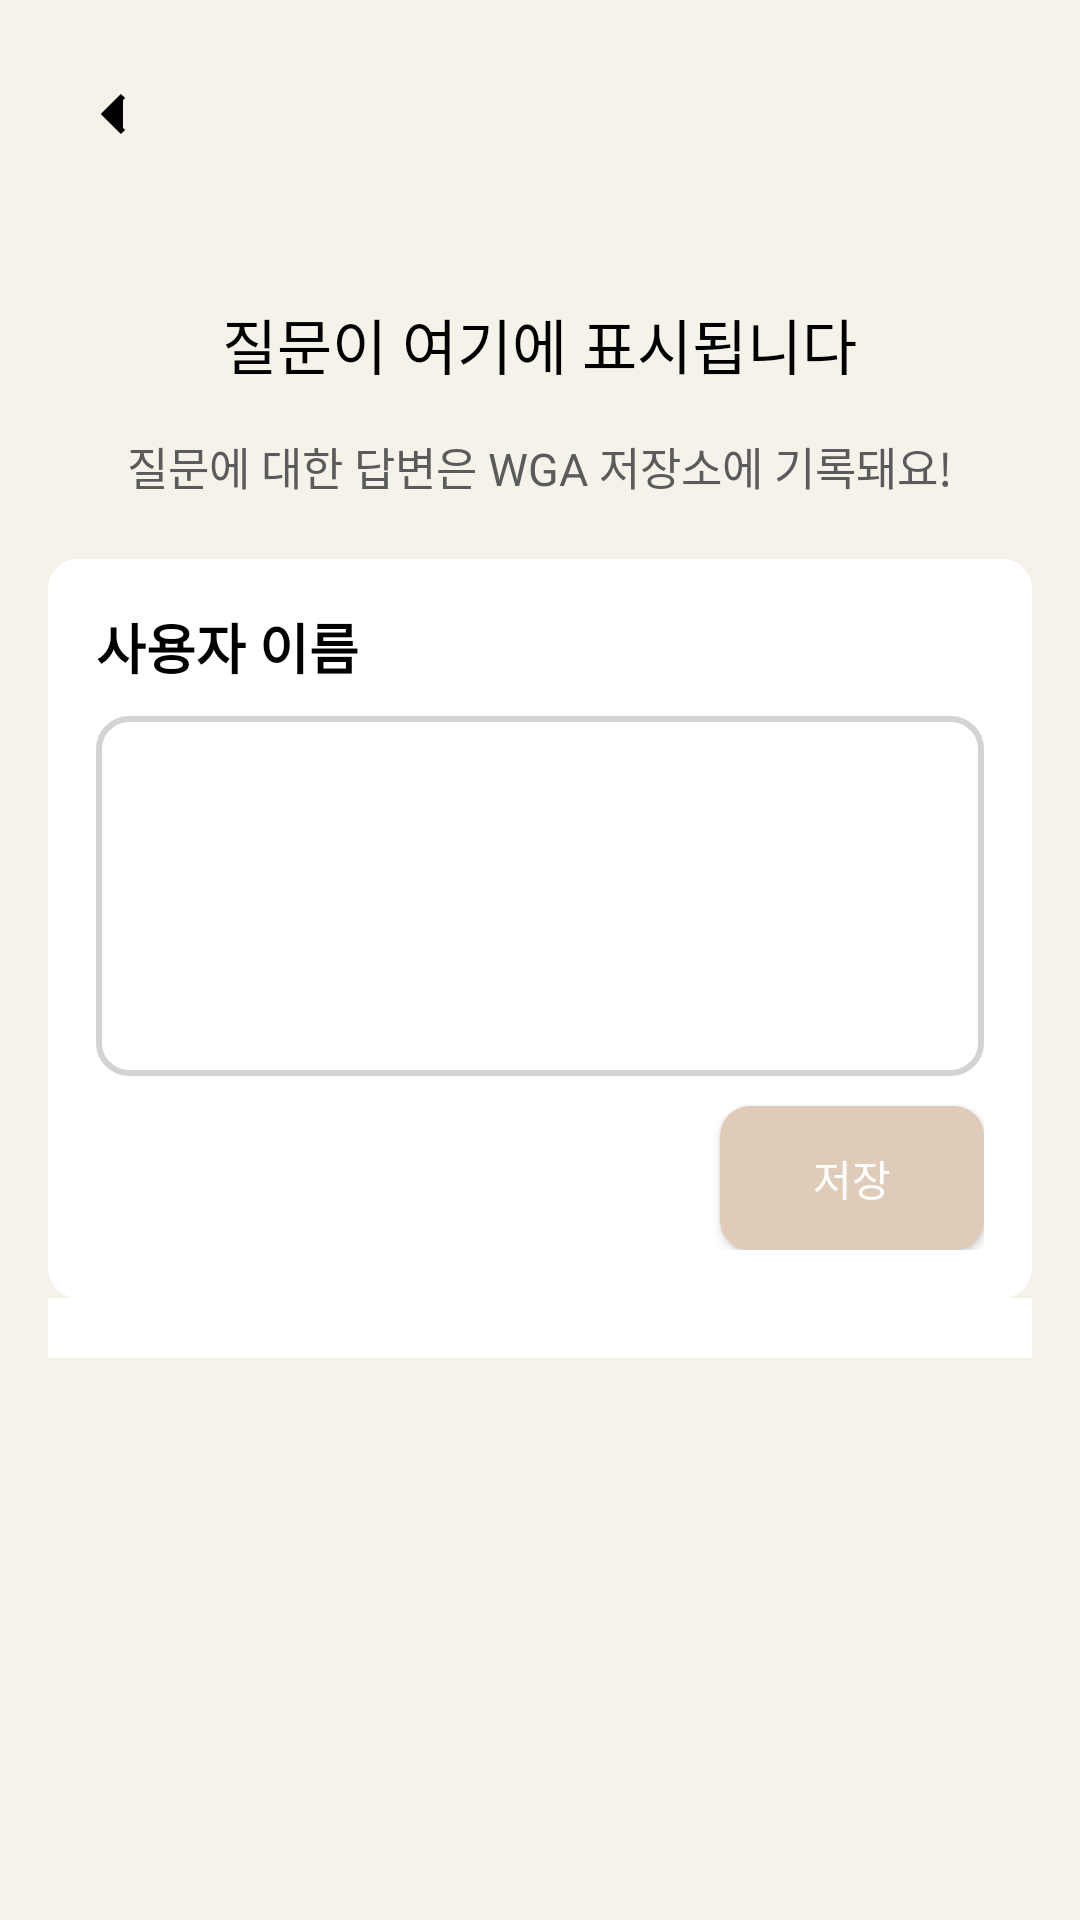

Icons on this 1080px x 1920px Android screen, each with its box as (x1, y1, x2, y2):
이전 화면으로 이동: (101, 94, 125, 134)
